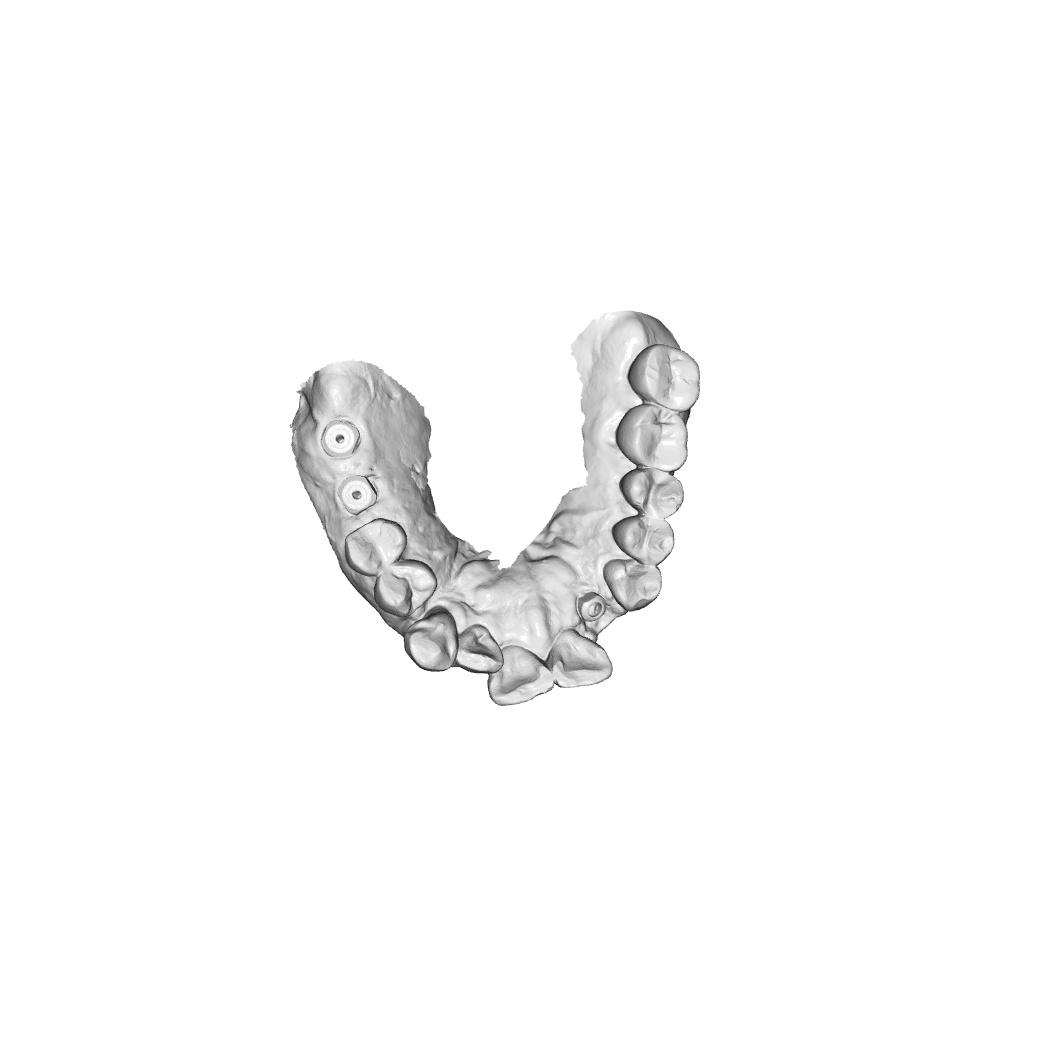canine: (403, 609, 460, 673), (602, 558, 663, 613)
implant: (320, 418, 362, 459), (336, 474, 377, 516), (574, 588, 608, 623)
incisor: (546, 626, 614, 689), (487, 645, 555, 707), (453, 623, 505, 675)
molar: (625, 343, 701, 414), (613, 403, 689, 473)
premolar: (343, 517, 408, 578), (373, 558, 438, 618), (618, 468, 686, 518), (610, 514, 675, 565)
